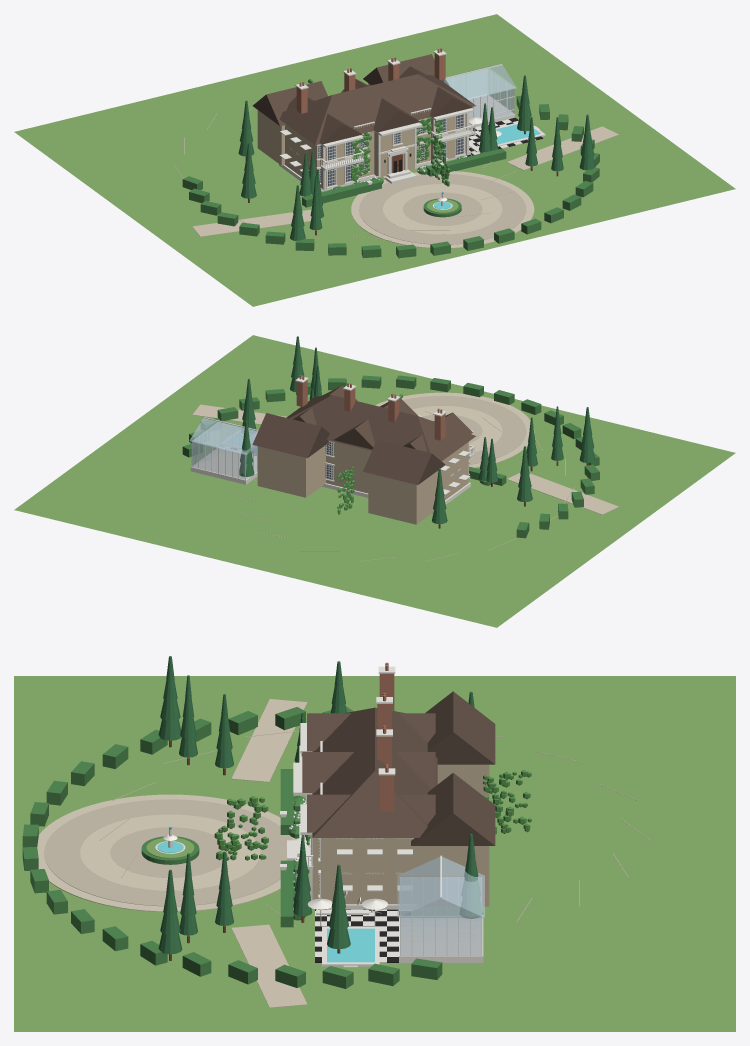
Rendered from house.fbx.
The picture shows the model from 3 angles, top to bottom: view 1: azimuth 30°, elevation 25°; view 2: azimuth 150°, elevation 25°; view 3: azimuth 270°, elevation 25°; orthographic projection. The views are drawn at different scales.
Parts seen in each view (by area): view 1: Lawn, Roof_main, Court_ring, Court_ring.001, Greenhouse_glass, Court_ring.002, Greenhouse_roof, Court, Main_body, Roof_back_L, Drive_L, Bay_C (+9 smaller); view 2: Lawn, Roof_main, Wing_back_R, Wing_back_L, Greenhouse_glass, Main_body, Court_ring, Roof_back_L, Roof_back_R, Greenhouse_roof, Greenhouse_base, Court_ring.001 (+5 smaller); view 3: Lawn, Court_ring, Roof_main, Greenhouse_glass, Court_ring.001, Main_body, Greenhouse_roof, Roof_back_R, Roof_back_L, Greenhouse_base, Court, Court_ring.002 (+11 smaller).
Part boxes in pixels (<box>): Lawn: <box>14,14,735,306</box>; Roof_main: <box>279,74,475,145</box>; Court_ring: <box>359,174,526,244</box>; Court_ring.001: <box>383,184,502,234</box>; Greenhouse_glass: <box>444,69,513,124</box>; Court_ring.002: <box>403,192,482,225</box>; Greenhouse_roof: <box>443,65,516,99</box>; Court: <box>351,171,534,248</box>; Main_body: <box>285,121,430,177</box>; Roof_back_L: <box>252,81,327,126</box>; Drive_L: <box>192,209,321,236</box>; Bay_C: <box>374,129,414,176</box>; Lawn: <box>14,335,735,627</box>; Roof_main: <box>286,395,475,461</box>; Wing_back_R: <box>257,445,325,497</box>; Wing_back_L: <box>368,470,438,524</box>; Greenhouse_glass: <box>192,422,257,479</box>; Main_body: <box>326,442,468,500</box>; Court_ring: <box>403,395,526,464</box>; Roof_back_L: <box>363,440,445,484</box>; Roof_back_R: <box>252,413,329,458</box>; Greenhouse_roof: <box>189,418,257,454</box>; Greenhouse_base: <box>190,448,257,484</box>; Court_ring.001: <box>412,406,502,452</box>; Lawn: <box>14,676,735,1031</box>; Court_ring: <box>44,799,292,906</box>; Roof_main: <box>312,707,437,837</box>; Greenhouse_glass: <box>400,877,481,955</box>; Court_ring.001: <box>80,814,260,890</box>; Main_body: <box>321,838,416,904</box>; Greenhouse_roof: <box>397,856,484,917</box>; Roof_back_R: <box>411,773,495,845</box>; Roof_back_L: <box>425,691,495,764</box>; Greenhouse_base: <box>399,916,483,962</box>; Court: <box>37,794,297,911</box>; Court_ring.002: <box>110,827,230,877</box>.
Bounding box in the file's own units: 7000 × 1325 × 6000.
